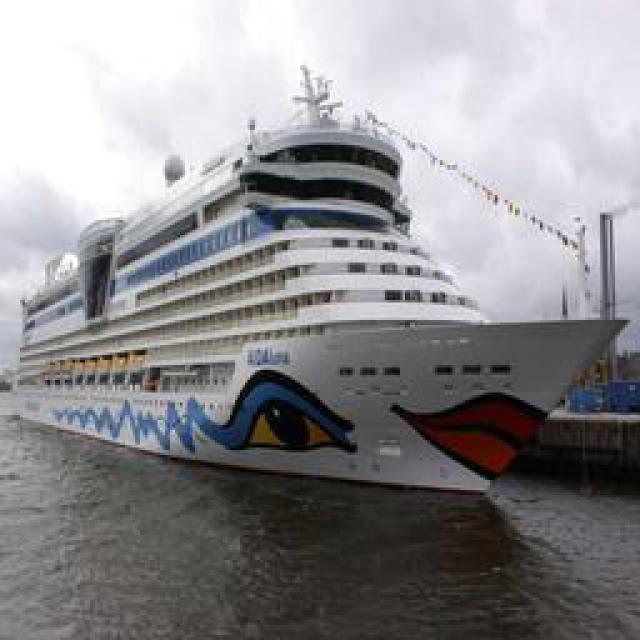Ship: (25, 94, 635, 537)
